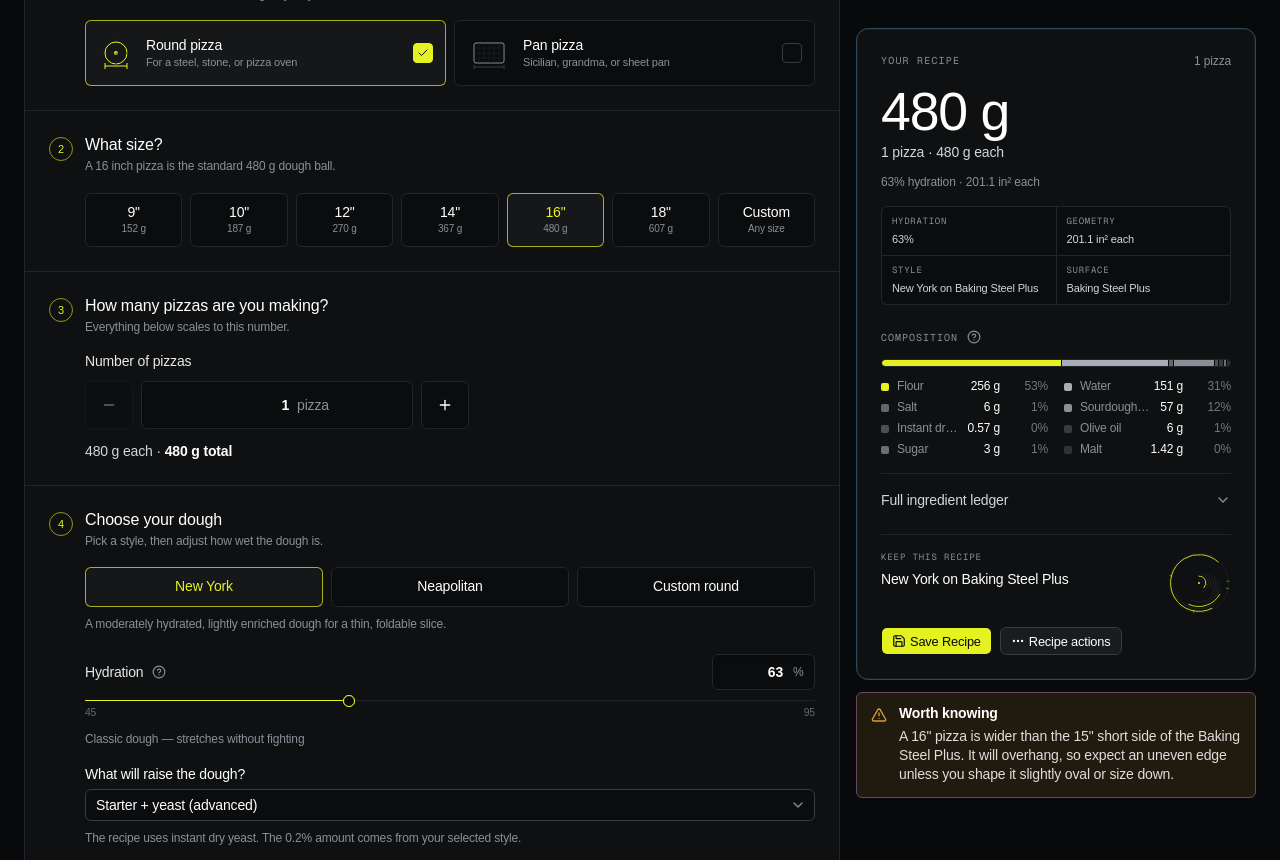
Test case: hybrid mode › includes both leaveners in the recipe
(page scrolled)
Expected: the element "Your recipe" shows "sourdough starter", [1080,401,1173,415]
Expected: the element "Your recipe" shows "instant dry yeast", [897,422,982,436]
Click the button "Full ingredient ledger". click: (945, 501)
box: [881,487,1231,515]
(page scrolled)
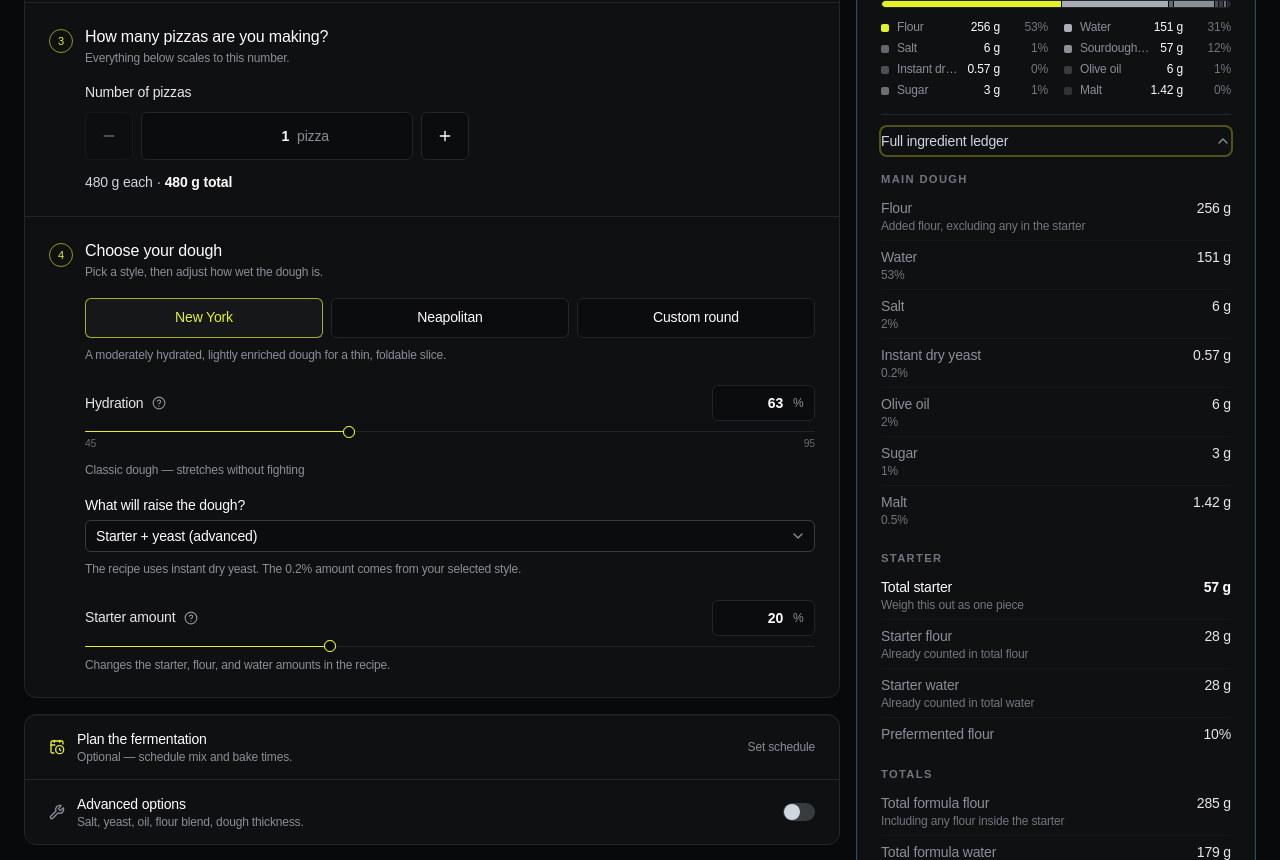
Expected: the element "Your recipe" shows "total starter", [881,579,952,595]
